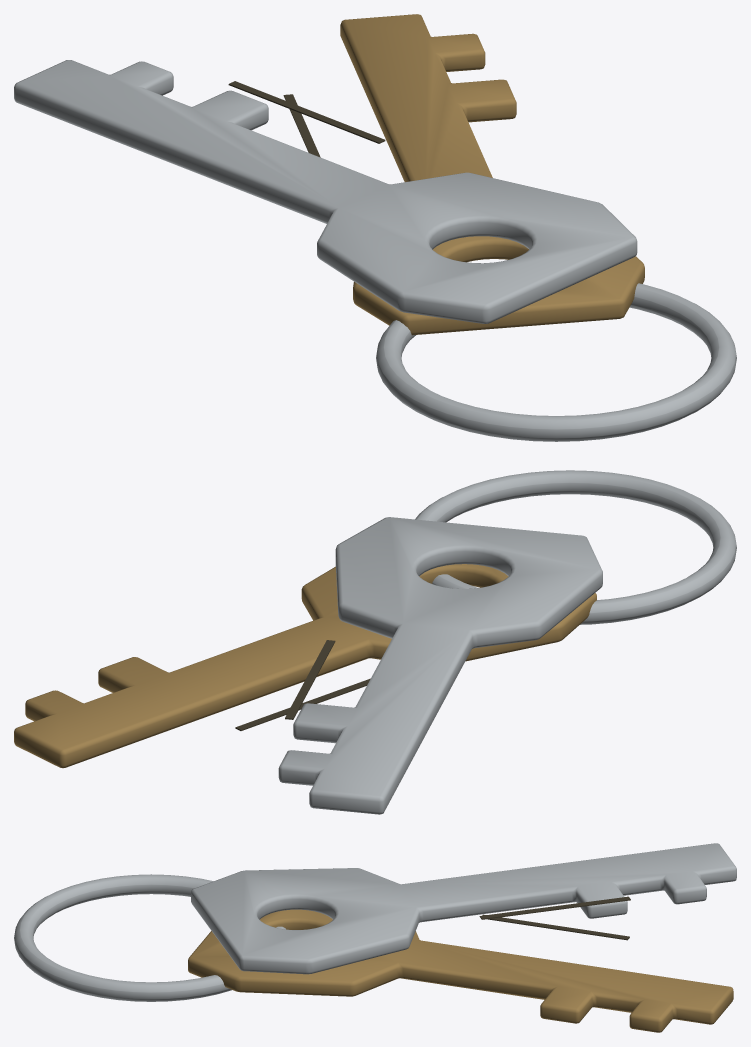
The model's file is exit_keys.glb.
3 renders of one model, top to bottom at view 1: azimuth 30°, elevation 25°; view 2: azimuth 150°, elevation 25°; view 3: azimuth 270°, elevation 25°, orthographic. The views are drawn at different scales.
Parts seen in each view (by area): view 1: SpareKey, ExitKey, SplitSteelRing, RecessedKeyway.001; view 2: SpareKey, ExitKey, SplitSteelRing, RecessedKeyway.001, RecessedKeyway; view 3: SpareKey, ExitKey, SplitSteelRing, RecessedKeyway.001, RecessedKeyway.
Part boxes in pixels (box(x1,y1,x2,y2)): SpareKey: box(14, 60, 637, 323); ExitKey: box(340, 14, 644, 335); SplitSteelRing: box(376, 283, 736, 441); RecessedKeyway.001: box(228, 81, 385, 143); SpareKey: box(278, 517, 602, 814); ExitKey: box(14, 564, 596, 768); SplitSteelRing: box(415, 470, 736, 624); RecessedKeyway.001: box(285, 640, 335, 719); RecessedKeyway: box(235, 678, 370, 730); SpareKey: box(191, 843, 736, 974); ExitKey: box(188, 909, 733, 1032); SplitSteelRing: box(14, 874, 285, 1001); RecessedKeyway.001: box(479, 896, 630, 919); RecessedKeyway: box(482, 914, 629, 940).
Size of the model in its own units: 0.0527 by 0.00705 by 0.102.
